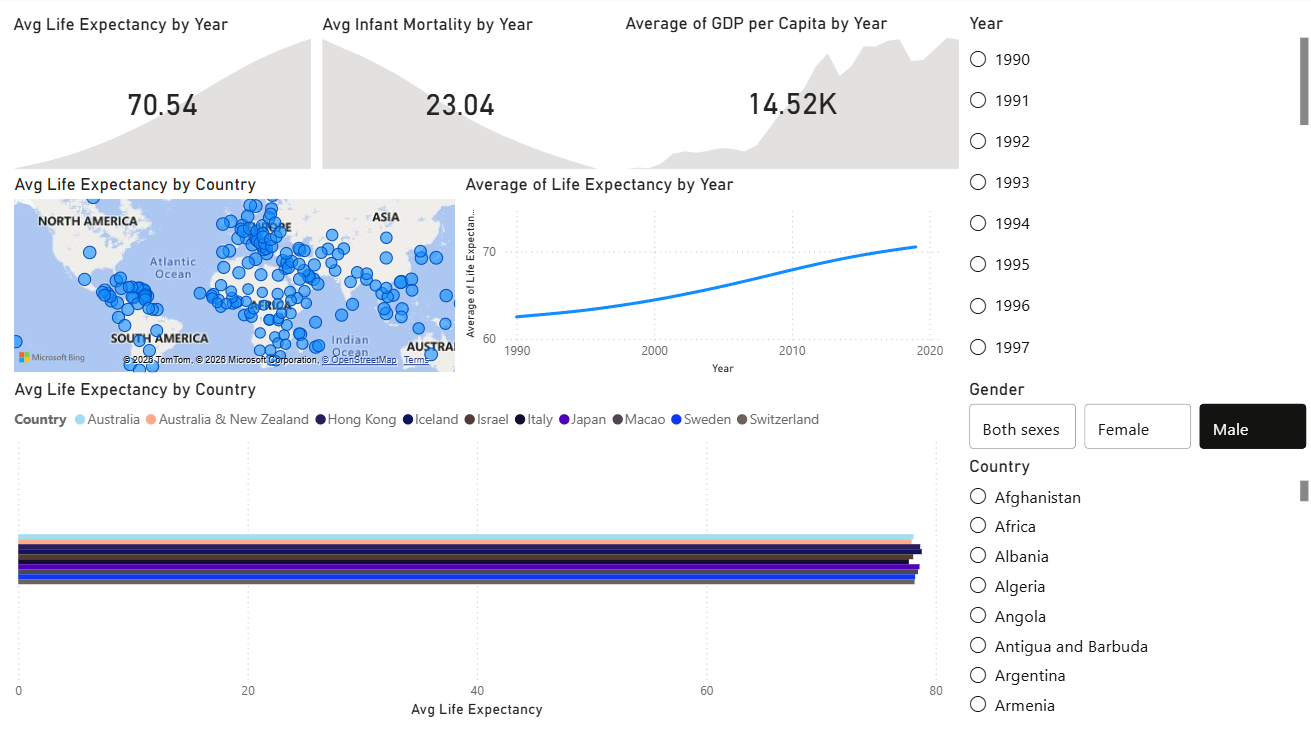

The dashboard page shown, as its layout file describes it:
{"tool":"powerbi","page":{"name":"Summary","canvas":[1280,720],"ordinal":0},"visuals":[{"type":"lineChart","fields":{"Y":["Avg(globalhealth.Life Expectancy)"],"Category":["globalhealth.Year"]},"box":[449.4,172.2,474.7,199.4],"z":0},{"type":"map","fields":{"Size":["globalhealth.Avg Life Expectancy"],"Category":["globalhealth.Country"]},"box":[10.7,172.2,438.7,198.4],"z":1000},{"type":"clusteredBarChart","fields":{"Y":["globalhealth.Avg Life Expectancy"],"Series":["globalhealth.Country"]},"box":[10.7,371.6,913.3,334.6],"z":2000},{"type":"kpi","fields":{"Indicator":["globalhealth.Avg Life Expectancy"],"TrendLine":["globalhealth.Year"]},"box":[9.7,16.5,299.6,155.6],"z":3000},{"type":"kpi","fields":{"Indicator":["globalhealth.Avg Infant Mortality"],"TrendLine":["globalhealth.Year"]},"box":[310.3,16.5,278.2,155.6],"z":4000},{"type":"kpi","fields":{"Indicator":["Avg(globalhealth.GDP per Capita)"],"TrendLine":["globalhealth.Year"]},"box":[605,15.6,334.6,156.6],"z":5000},{"type":"listSlicer","fields":{"Values":["globalhealth.Year"]},"box":[939.6,15.6,340.4,355],"z":6000},{"type":"advancedSlicerVisual","fields":{"Values":["globalhealth.Gender"]},"box":[939.6,371.6,340.4,73.9],"z":7000},{"type":"listSlicer","fields":{"Values":["globalhealth.Country"]},"box":[940,446,340,261],"z":8000}]}

Visuals, with their boxes in screenshot pixels (x1, y1, x2, y2), scaled from the page's 1280x720 canvas onto the 1311x735 screenshot:
lineChart - Avg(globalhealth.Life Expectancy) x globalhealth.Year: select_region(460, 176, 946, 379)
map - globalhealth.Avg Life Expectancy x globalhealth.Country: select_region(11, 176, 460, 378)
clusteredBarChart - globalhealth.Avg Life Expectancy x globalhealth.Country: select_region(11, 379, 946, 721)
kpi - globalhealth.Avg Life Expectancy x globalhealth.Year: select_region(10, 17, 317, 176)
kpi - globalhealth.Avg Infant Mortality x globalhealth.Year: select_region(318, 17, 603, 176)
kpi - Avg(globalhealth.GDP per Capita) x globalhealth.Year: select_region(620, 16, 962, 176)
listSlicer - globalhealth.Year: select_region(962, 16, 1310, 378)
advancedSlicerVisual - globalhealth.Gender: select_region(962, 379, 1310, 455)
listSlicer - globalhealth.Country: select_region(963, 455, 1310, 722)
